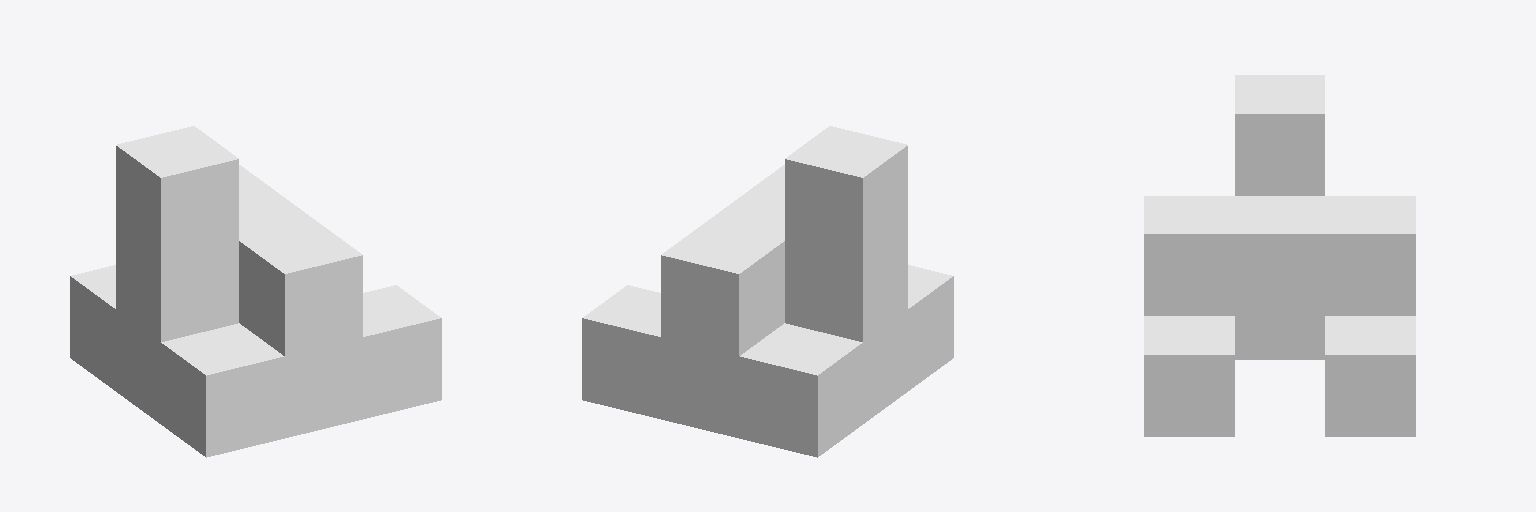
File: SH_Items-3-Ammo_Shell.obj
3 renders of one model, left to right at view 1: azimuth 30°, elevation 25°; view 2: azimuth 150°, elevation 25°; view 3: azimuth 270°, elevation 25°, orthographic.
Parts seen in each view (by area): view 1: Ammo_Shell; view 2: Ammo_Shell; view 3: Ammo_Shell.
Boxes of the visible parts, x1,y1,x2,y2 form: Ammo_Shell: [70, 126, 441, 457]; Ammo_Shell: [582, 126, 953, 457]; Ammo_Shell: [1144, 75, 1415, 436].
Size of the model in its own units: 0.3 by 0.3 by 0.3.